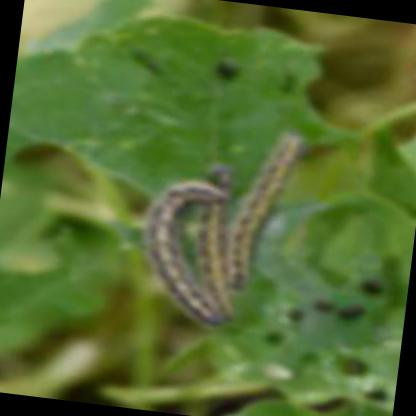pieris: (140, 184, 242, 330), (222, 132, 298, 291)
